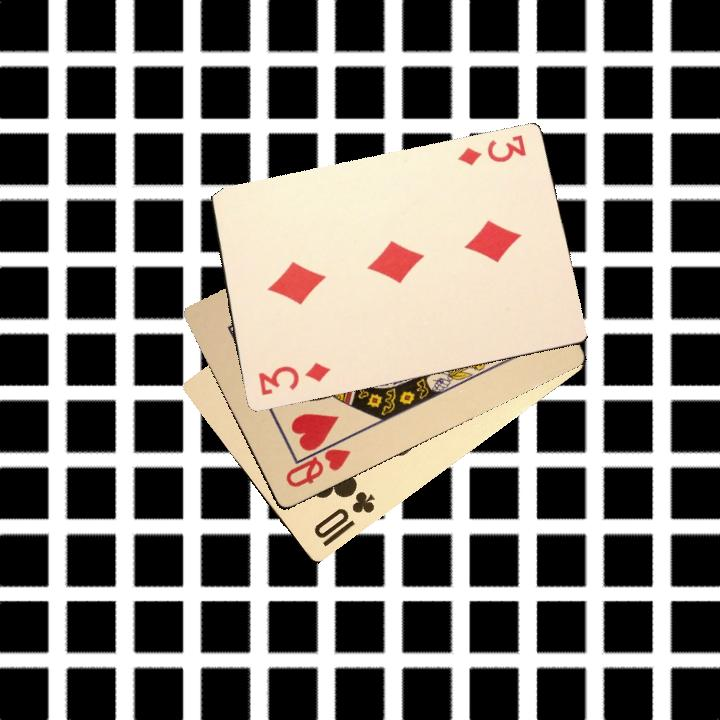10c: (309, 481, 378, 549)
3d: (254, 358, 333, 398), (453, 130, 529, 168)
Qh: (281, 434, 353, 490)
